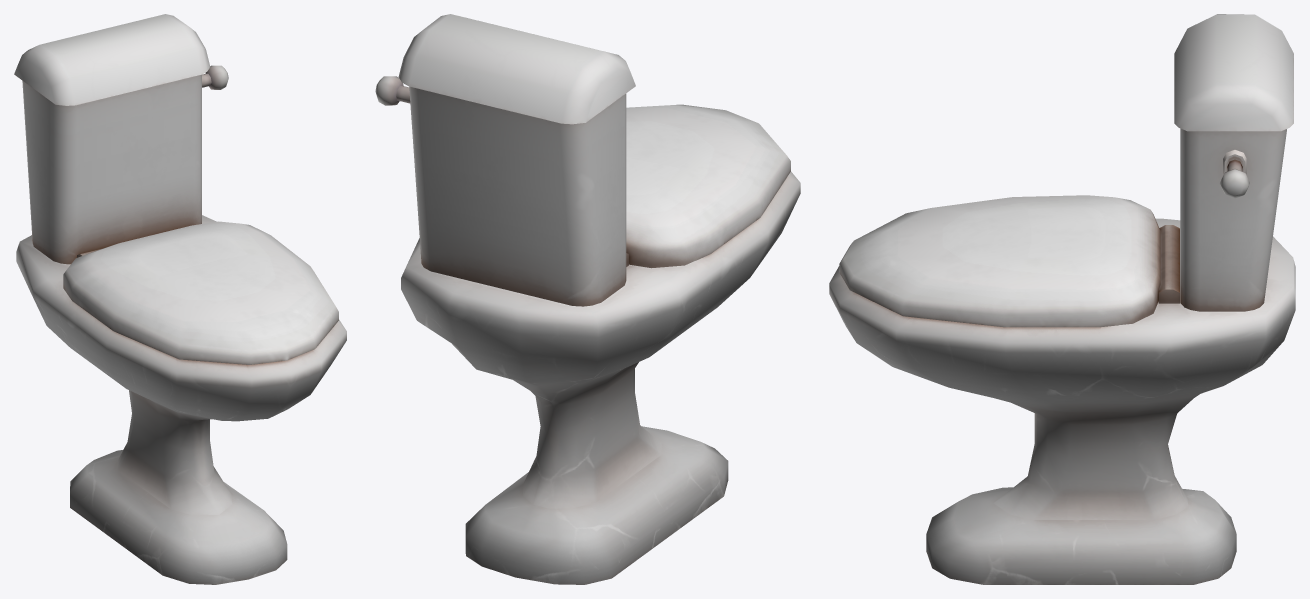
Rendered from BathToilet01.FBX.
3 renders of one model, left to right at view 1: azimuth 30°, elevation 25°; view 2: azimuth 150°, elevation 25°; view 3: azimuth 270°, elevation 25°, orthographic. The views are drawn at different scales.
Parts seen in each view (by area): view 1: BathToilet01; view 2: BathToilet01; view 3: BathToilet01.
Boxes of the visible parts, x1,y1,x2,y2 form: BathToilet01: (14,14,346,584); BathToilet01: (375,14,800,584); BathToilet01: (829,14,1295,584).
Size of what is drawn, in the model's own units: 0.5049 by 0.9743 by 0.8205.
